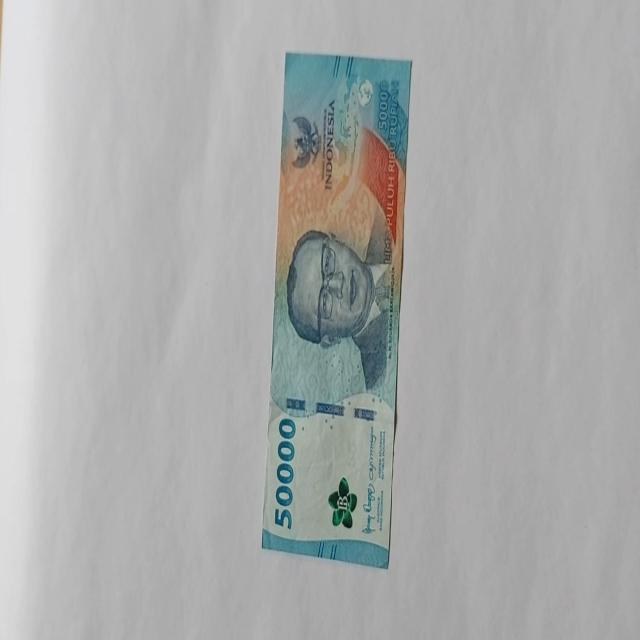lima puluh ribu rupiah: (260, 51, 412, 568)
